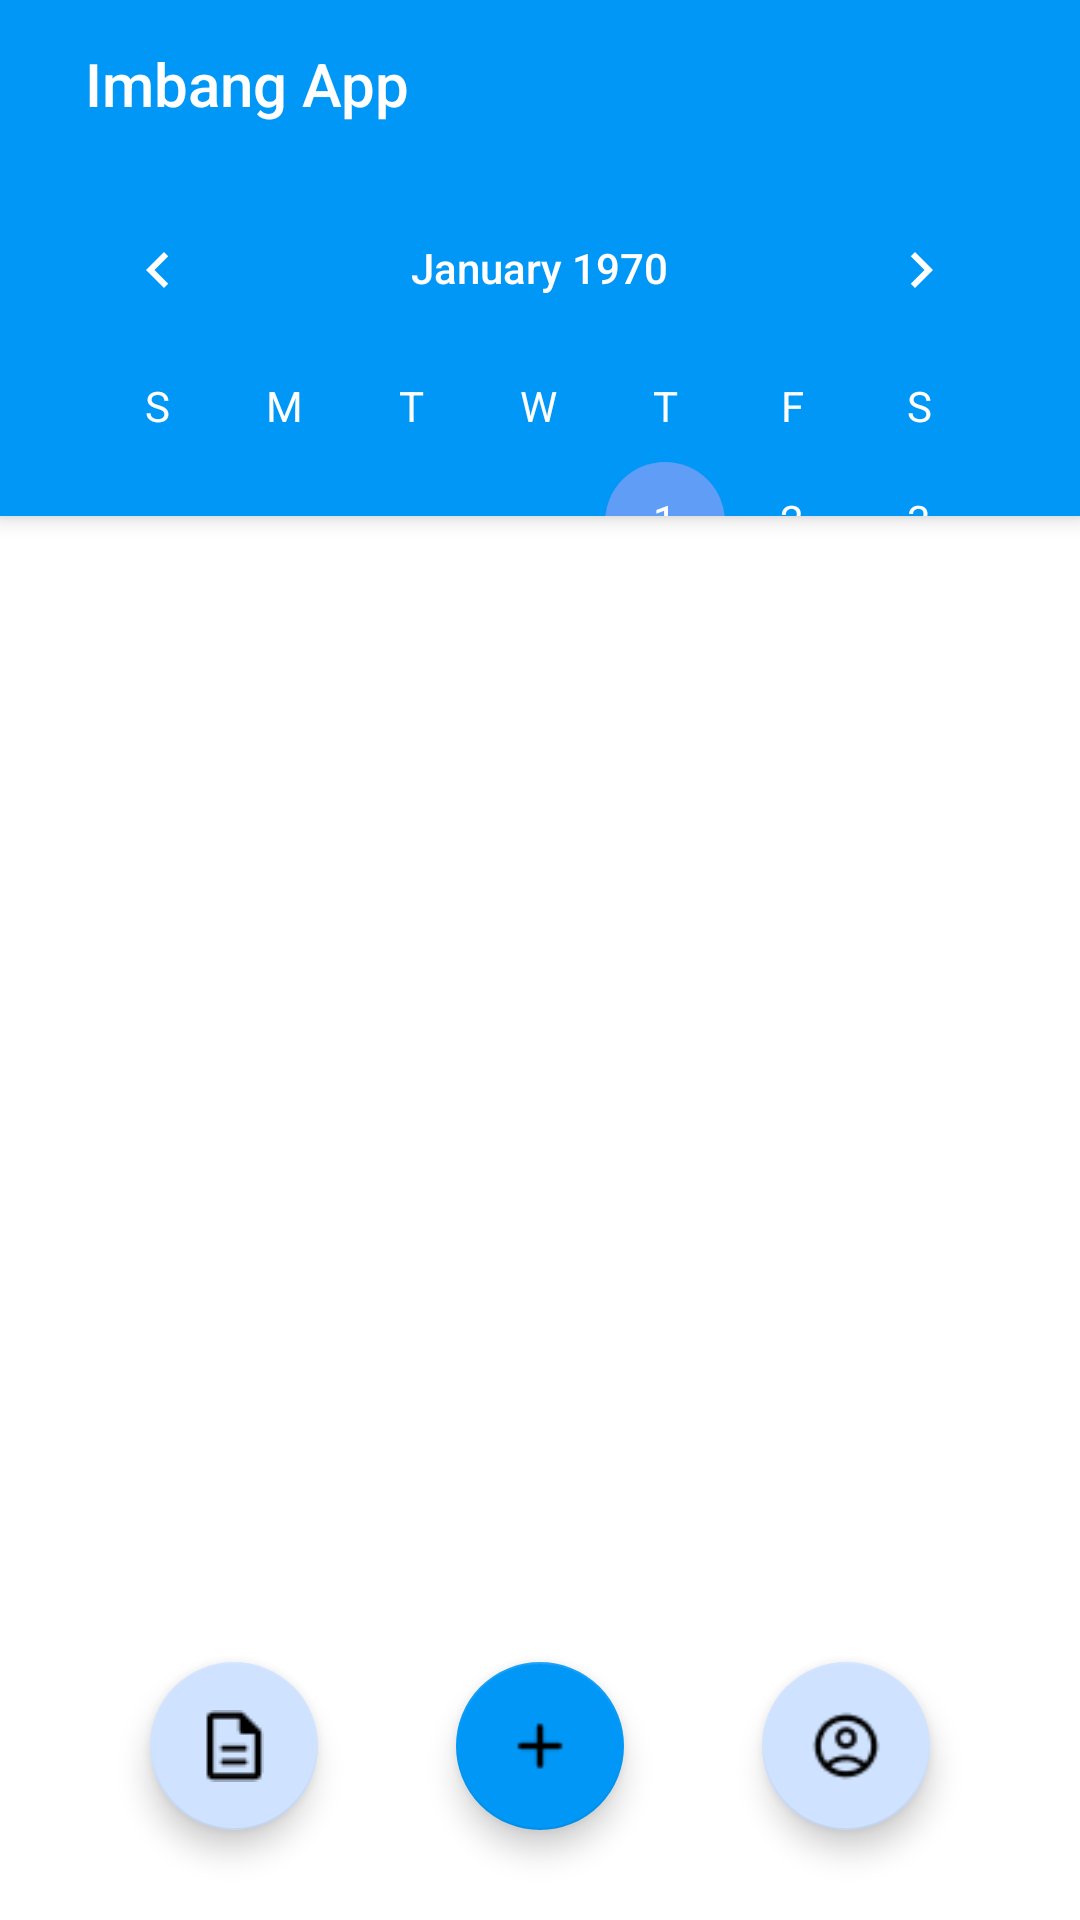

Where icons sit on this 1080x1920 app screen, as bbox=[x1, y1, x2, y2]:
acc: bbox=[762, 1662, 930, 1830]
add: bbox=[456, 1662, 624, 1830]
list: bbox=[150, 1662, 318, 1830]
